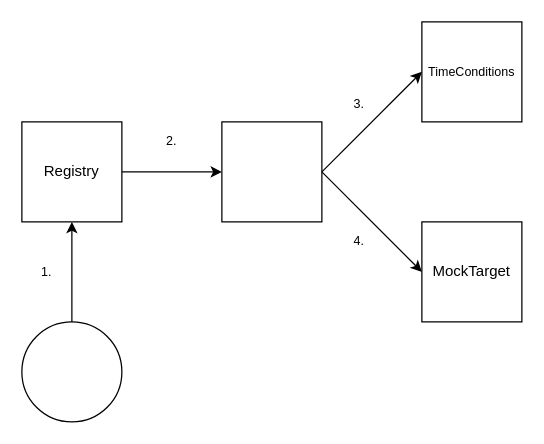
Some shapes in this 544 by 444 pixel diagram are drawn without their labels. The centre of each missing label's shape, as x and y in pixels:
"Bot" goes at [71,371].
"FundsRouter" goes at [271,171].
